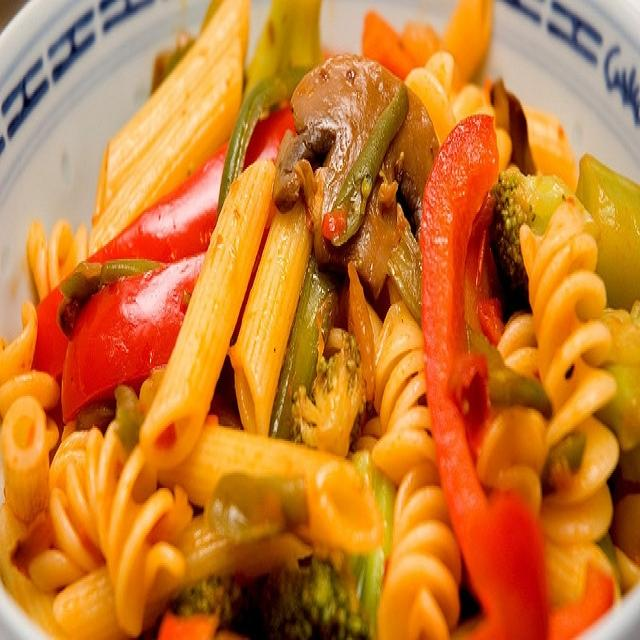蔬菜料理: (12, 26, 622, 625)
